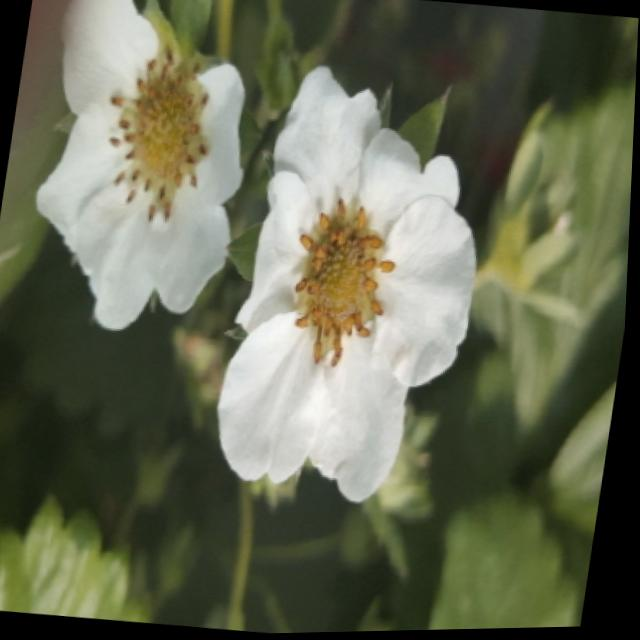Blossom Blight: (105, 43, 214, 226)
